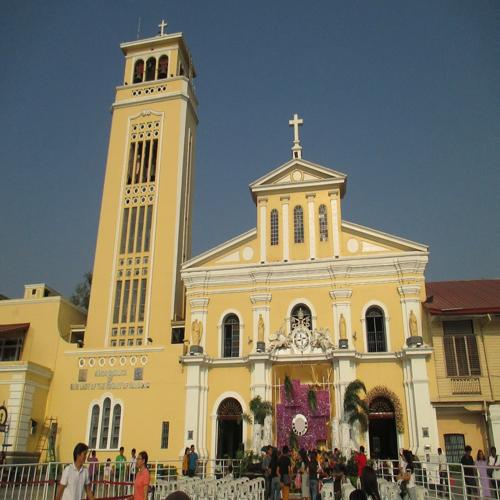Manaoag Church: (92, 9, 437, 500)
